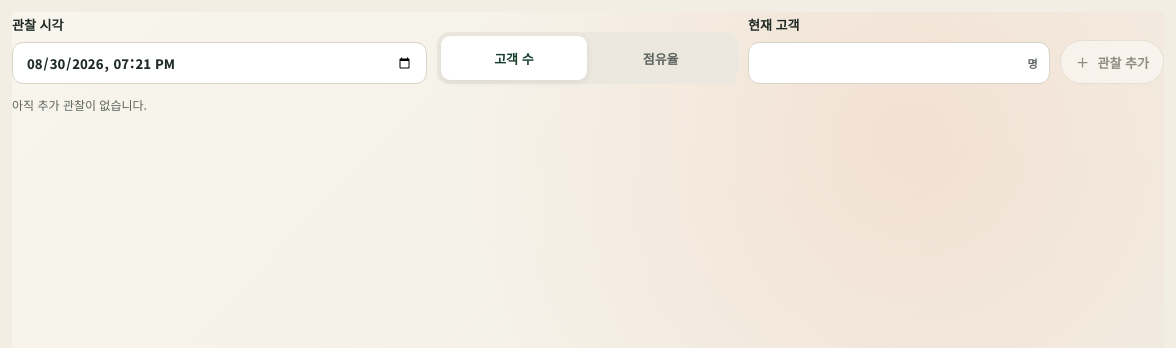
Scenario: ObservationManager › keeps the observation input and shows a retryable error when the action transport fails
Type "10" into the number field.
click(899, 63); type("10")  # box [748,42,1050,84]
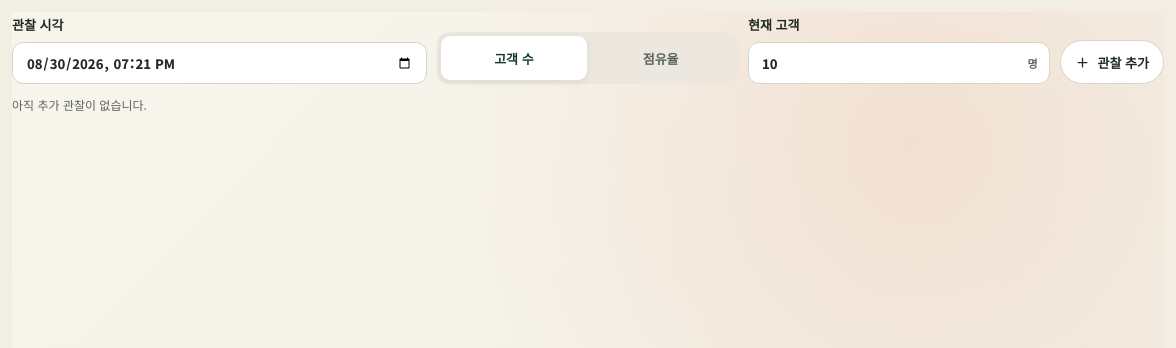
Click the button "관찰 추가".
click(1112, 62)  # box [1060,40,1164,84]
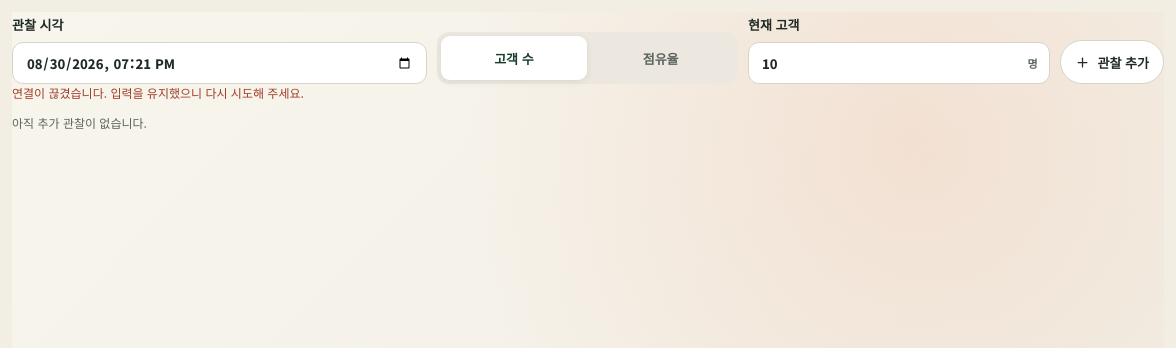
expect the button "관찰 추가" is enabled: met, box [1060,40,1164,84]
expect the message shows "연결이 끊겼습니다": met, box [12,84,304,101]
